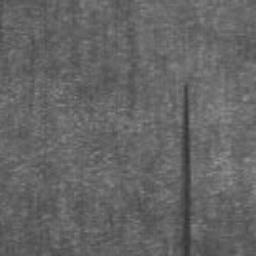Scratches: (182, 83, 193, 256)
